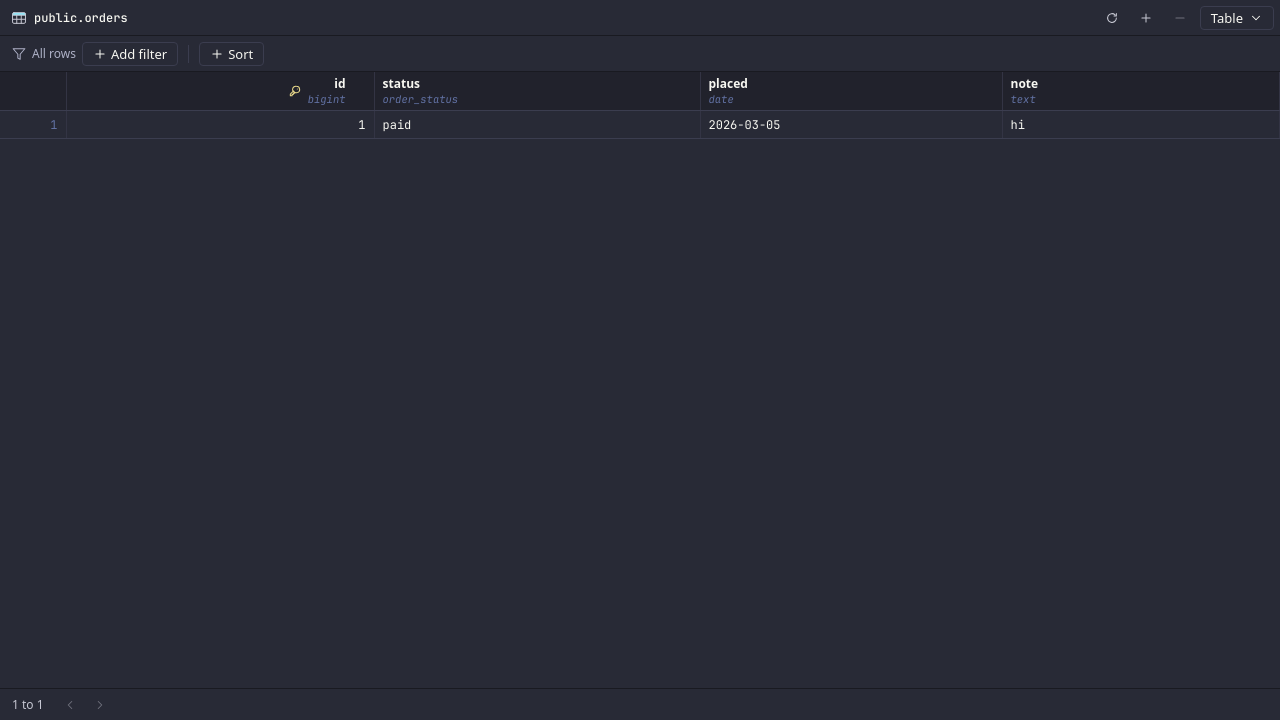
it: keys typed in the calendar do not reach the grid
Expected: the text "paid" is shown, [382,116,411,132]
Double-click the cell "2026-03-05": x=851, y=124 [700,110,1002,138]
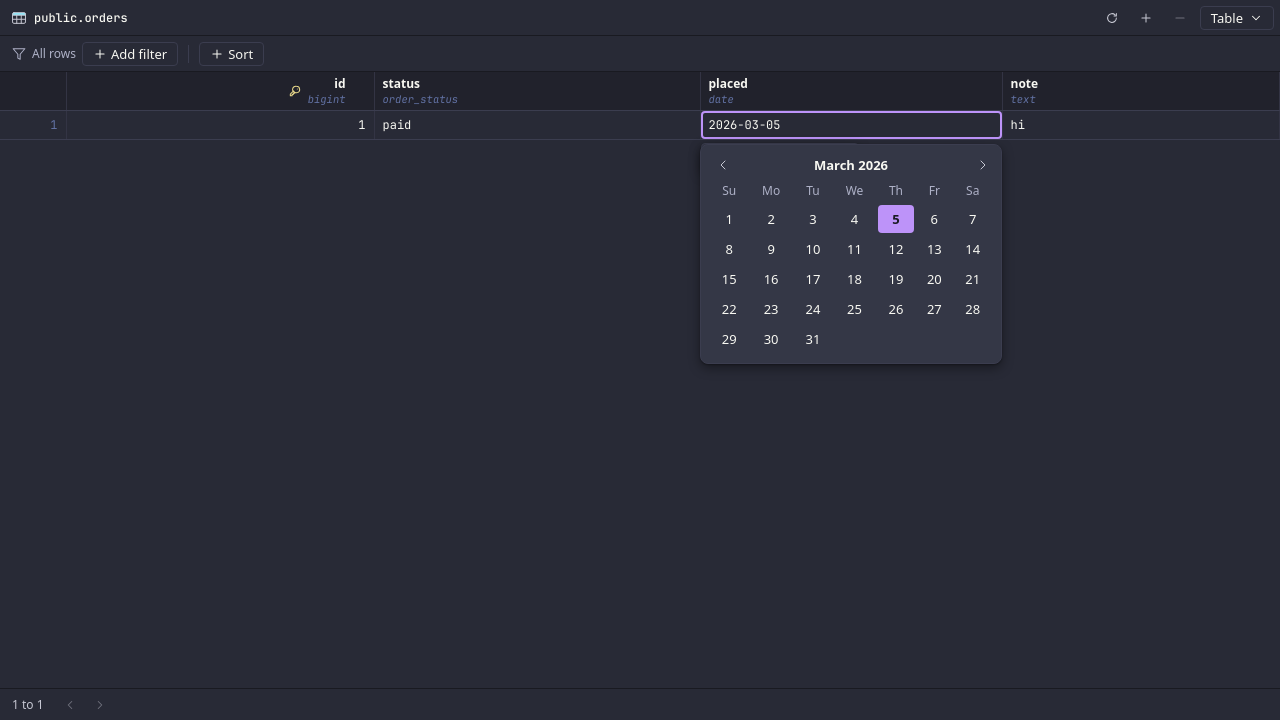
Press ArrowDown in the text box named "Cell value", box [700,111,1002,139]
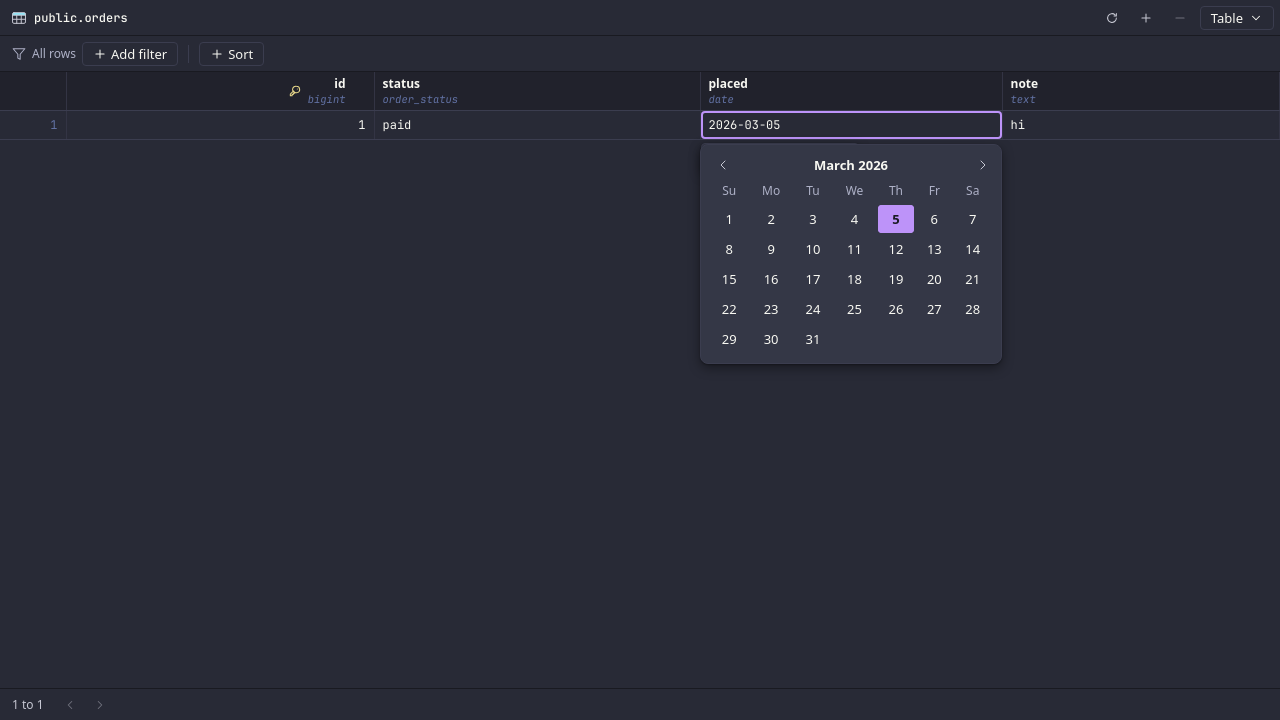
Press ArrowRight in the cell "5", box [878,204,914,232]
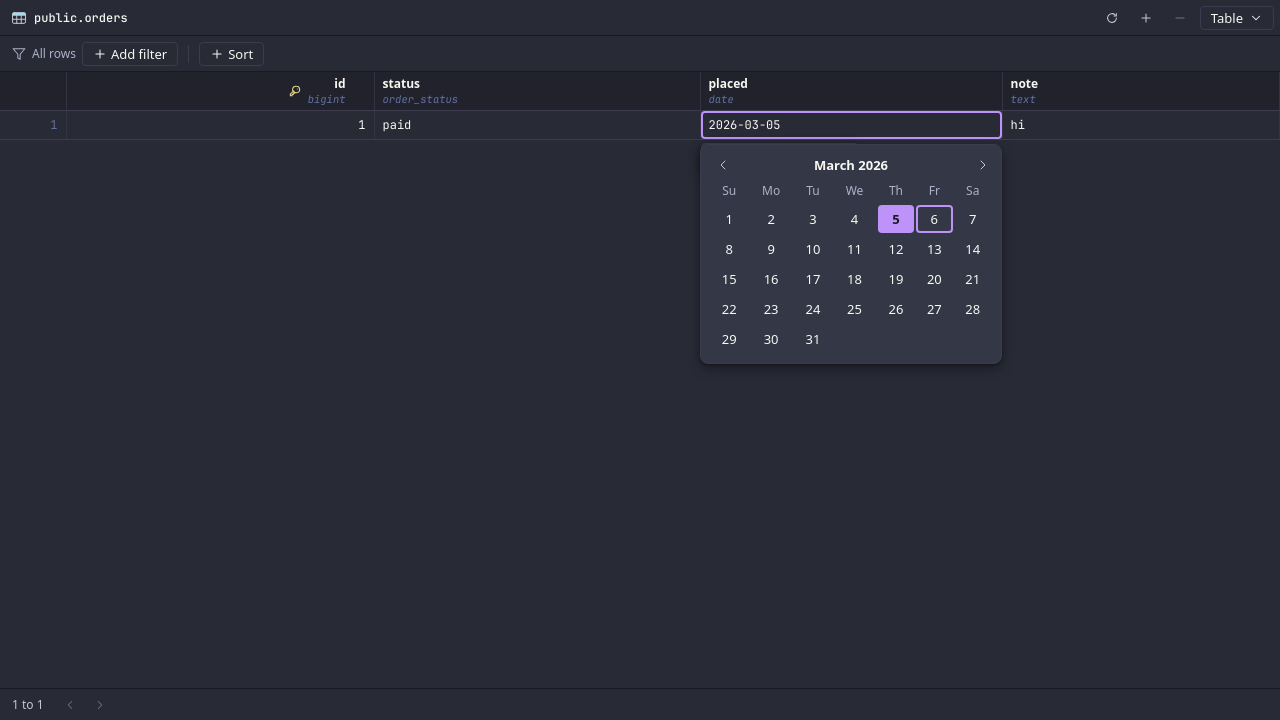
Press Enter in the cell "6", box [916,204,952,232]
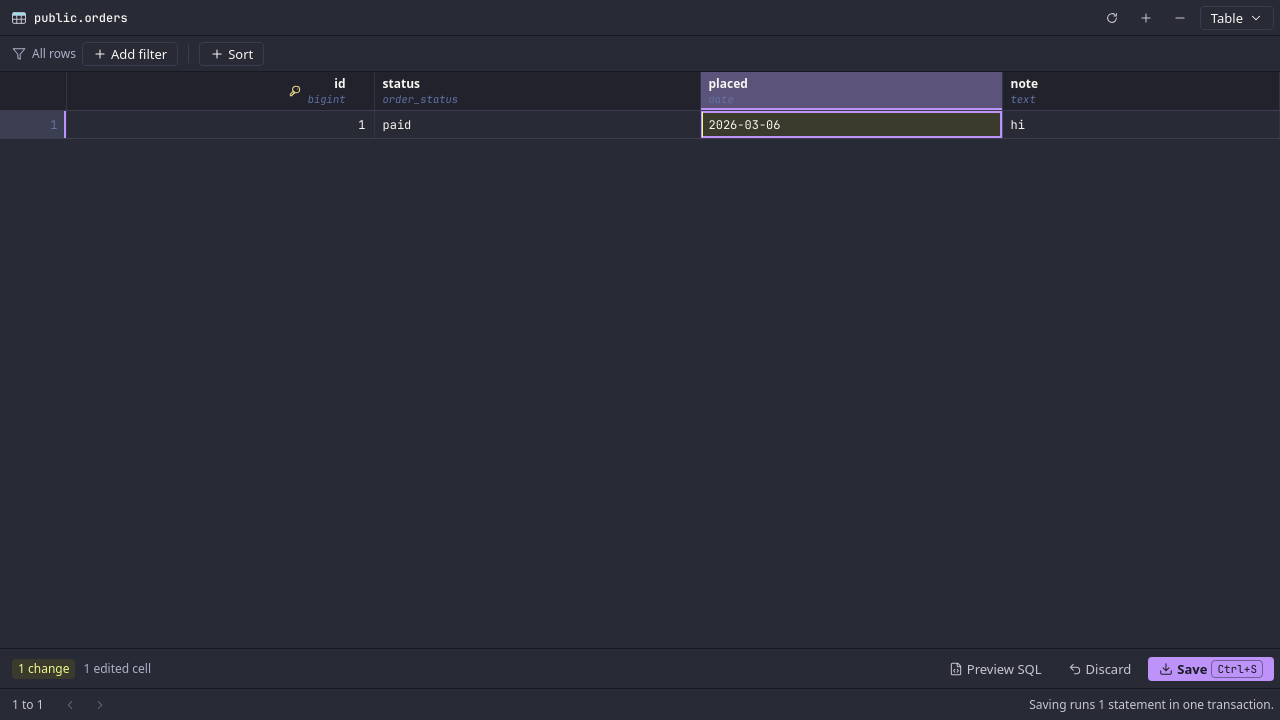
Expected: the cell "2026-03-06" is shown, [700,110,1002,138]
